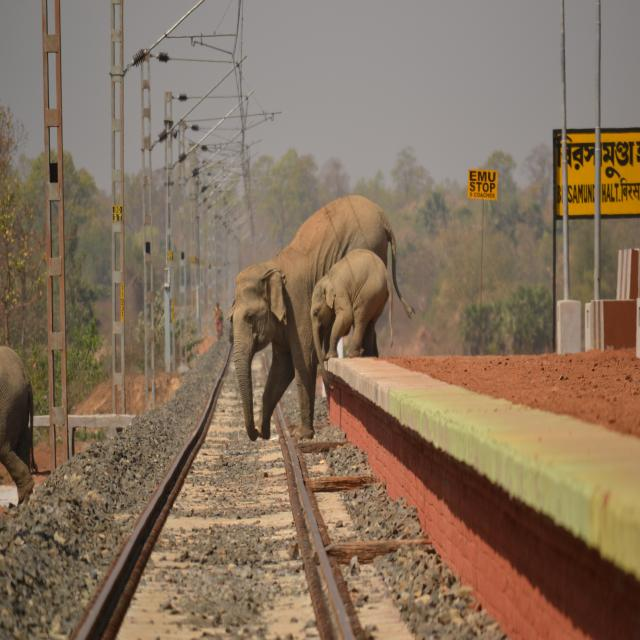Elephant: (214, 172, 413, 458), (304, 240, 402, 391)
